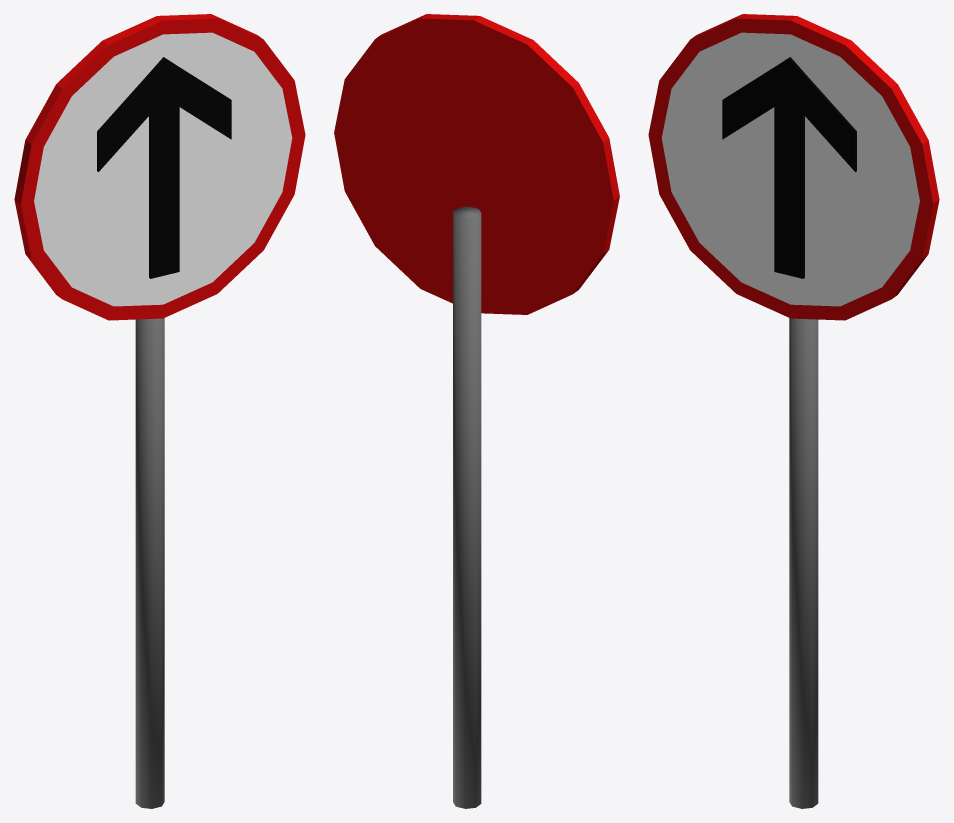
File: Prop_StreetSign_Stright.fbx
3 views of the same model, side by side, from view 1: azimuth 30°, elevation 25°; view 2: azimuth 150°, elevation 25°; view 3: azimuth 330°, elevation 25° (orthographic).
Visible parts, largest first — view 1: Prop_StreetSign_Stright; view 2: Prop_StreetSign_Stright; view 3: Prop_StreetSign_Stright.
Part boxes in pixels (x1,y1,x2,y2): Prop_StreetSign_Stright: (14, 14, 305, 808); Prop_StreetSign_Stright: (334, 14, 619, 808); Prop_StreetSign_Stright: (648, 14, 939, 808).
Bounding box in the file's own units: 164 × 435 × 21.7.
